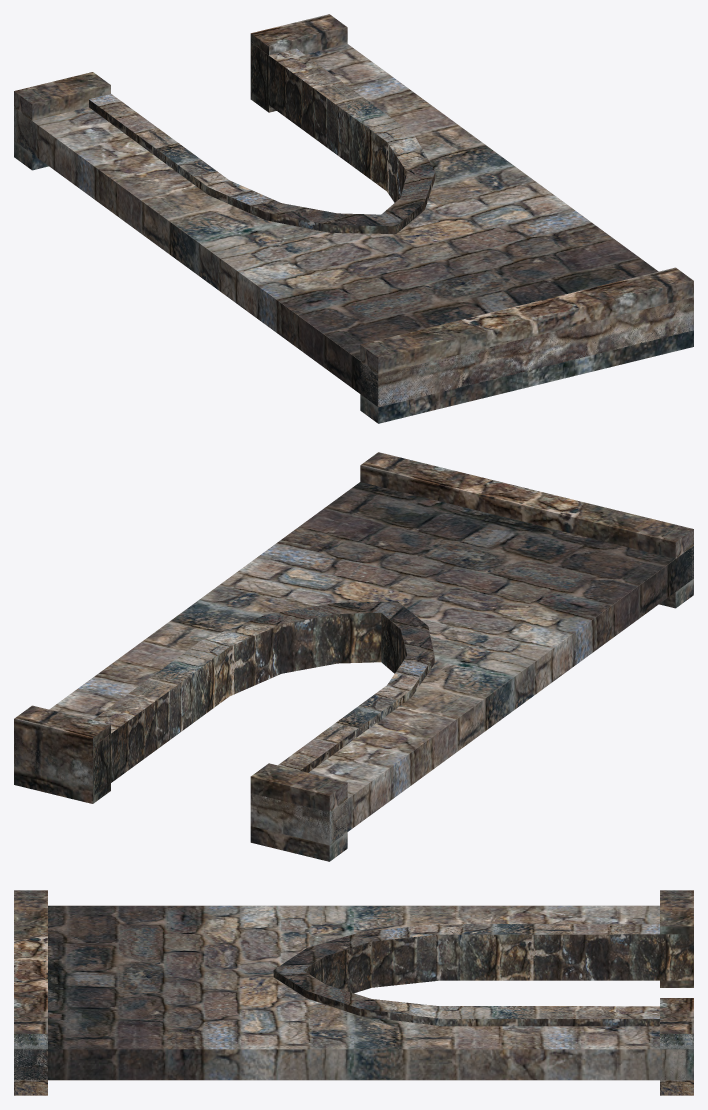
File: Lab_WallDoor.gltf
3 renders of one model, top to bottom at view 1: azimuth 30°, elevation 25°; view 2: azimuth 150°, elevation 25°; view 3: azimuth 270°, elevation 25°, orthographic. The views are drawn at different scales.
Visible parts, largest first — view 1: Lab_WallDoor; view 2: Lab_WallDoor; view 3: Lab_WallDoor.
Boxes of the visible parts, left/top/right/bottom form: Lab_WallDoor: left=14, top=14, right=693, bottom=423; Lab_WallDoor: left=14, top=452, right=693, bottom=861; Lab_WallDoor: left=14, top=890, right=693, bottom=1095.
Bounding box in the file's own units: 0.013 × 0.0026 × 0.026.
Materials: 1 (1 with a texture image).
